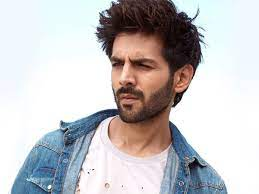b.y: (114, 86, 146, 122)
